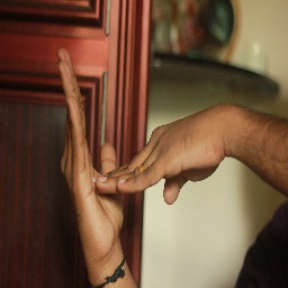Z: (46, 42, 229, 262)
